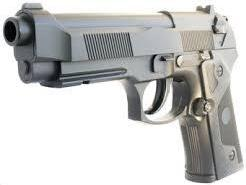gun: (1, 1, 246, 185)
